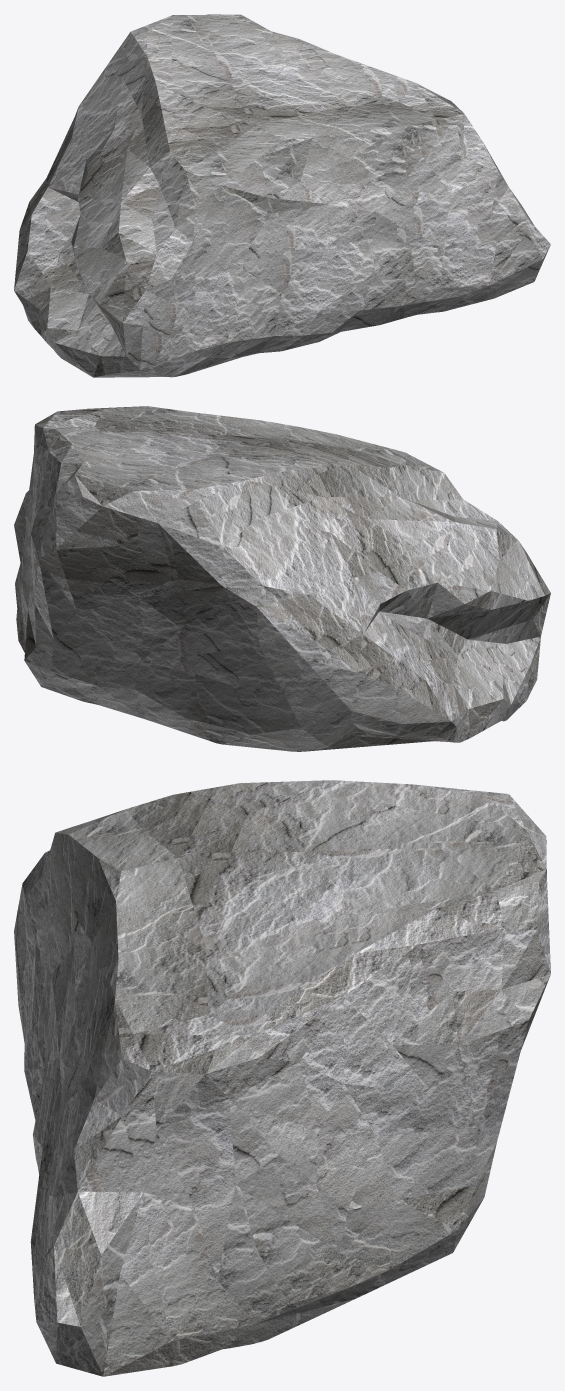
Rendered from astroid.dae.
The picture shows the model from 3 angles, top to bottom: view 1: azimuth 30°, elevation 25°; view 2: azimuth 150°, elevation 25°; view 3: azimuth 270°, elevation 25°; orthographic projection. The views are drawn at different scales.
Visible parts, largest first — view 1: skpCF; view 2: skpCF; view 3: skpCF.
Part boxes in pixels (<box>): skpCF: <box>14,14,550,377</box>; skpCF: <box>14,406,550,751</box>; skpCF: <box>14,780,550,1376</box>.
Size of the model in its own units: 99.97 by 61.81 by 47.78.
1 material, 1 textured.
